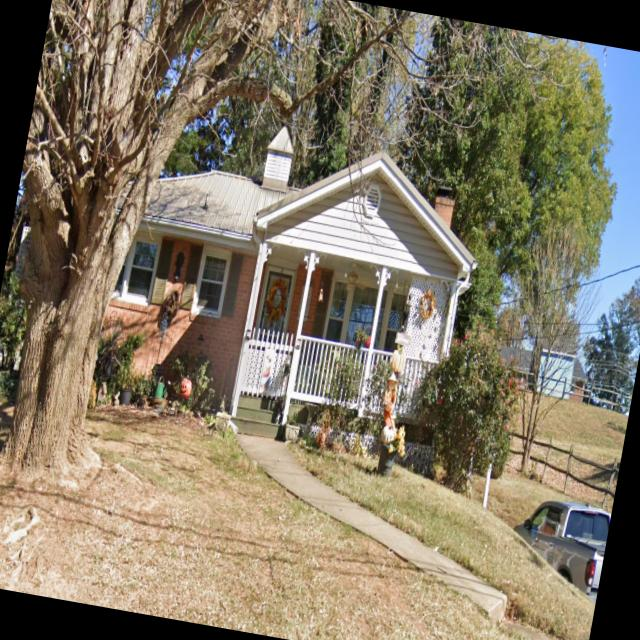House: (78, 100, 496, 480), (493, 330, 594, 403)
